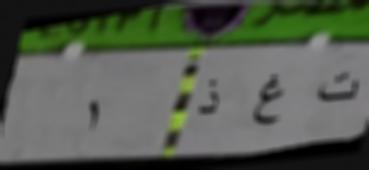1: (82, 93, 107, 135)
ghayn: (242, 63, 294, 132)
taa: (314, 66, 364, 112)
zaal: (197, 68, 225, 123)
